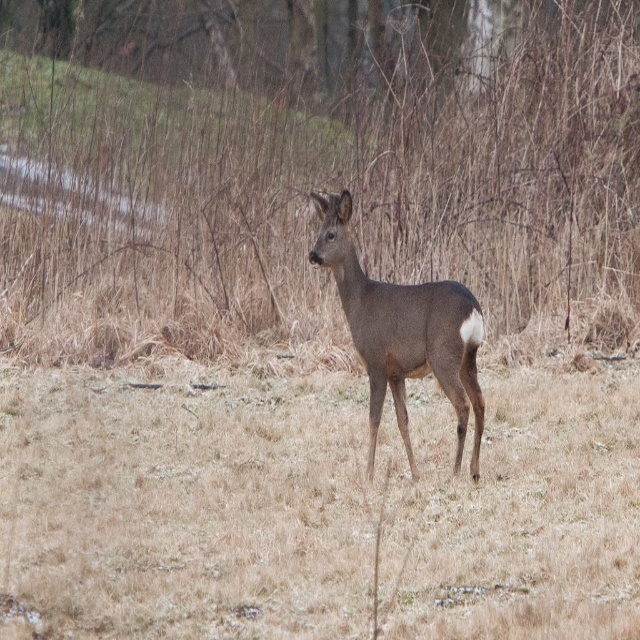Deer: (308, 191, 484, 482)
